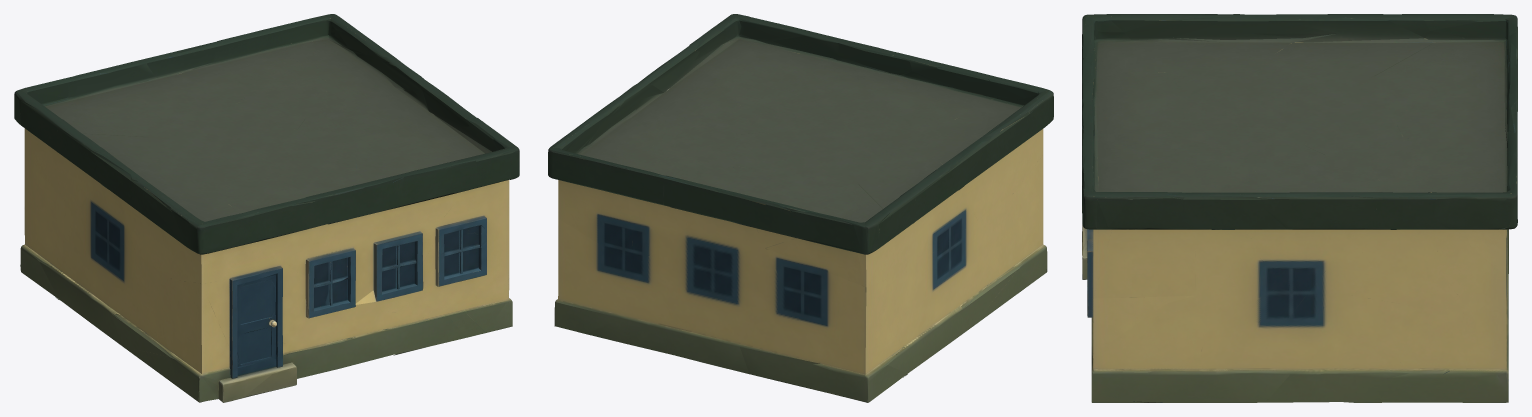
File: simple-house-f.glb
The picture shows the model from 3 angles, left to right: view 1: azimuth 30°, elevation 25°; view 2: azimuth 150°, elevation 25°; view 3: azimuth 270°, elevation 25°; orthographic projection. The views are drawn at different scales.
Bounding box in the file's own units: 1.9 × 1.02 × 1.9.
Materials: 1 (1 with a texture image).
